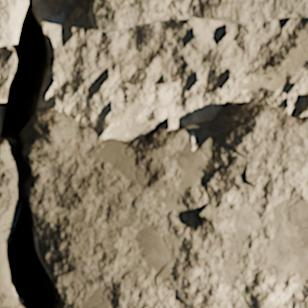brick: (89, 0, 307, 31), (0, 0, 27, 45)
broken_brick: (21, 100, 307, 307), (0, 139, 21, 307)
crack: (0, 2, 65, 307)
